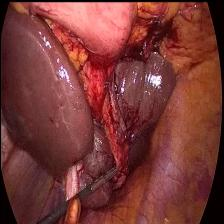Grasper: (89, 158, 118, 198)
